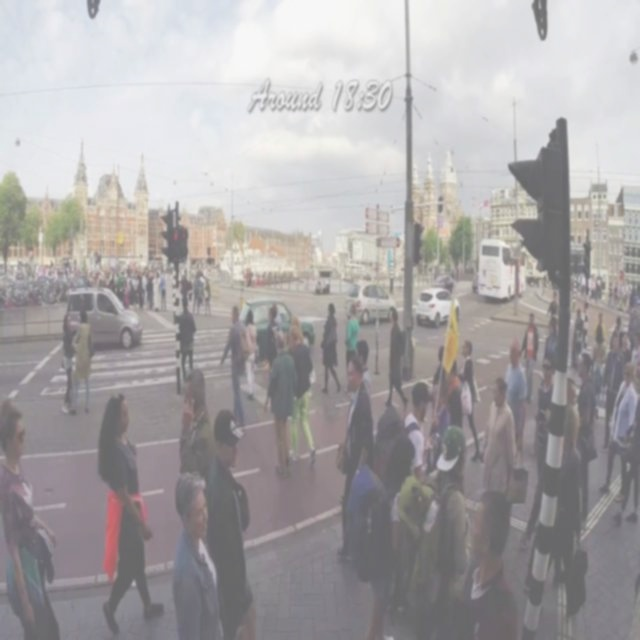pessoa: (94, 386, 168, 640), (0, 393, 65, 640), (527, 396, 587, 625), (408, 423, 472, 637), (204, 407, 254, 639), (451, 484, 523, 640), (29, 246, 174, 316), (170, 468, 227, 639), (335, 356, 375, 562), (568, 262, 640, 372), (517, 353, 556, 551), (371, 381, 434, 498), (337, 338, 372, 504), (598, 361, 638, 503), (262, 326, 298, 482), (478, 376, 516, 516), (570, 350, 600, 524), (178, 366, 218, 492), (286, 323, 316, 468), (220, 304, 247, 432), (599, 330, 625, 453), (70, 301, 96, 417), (456, 338, 480, 463), (503, 334, 528, 452), (384, 306, 409, 414), (59, 310, 80, 420), (318, 301, 342, 395), (241, 306, 261, 402), (519, 310, 539, 406), (177, 294, 197, 388), (178, 264, 212, 316), (344, 300, 360, 396), (265, 304, 281, 378), (570, 306, 586, 376), (590, 324, 608, 374), (546, 289, 560, 339), (286, 314, 306, 348), (592, 311, 608, 344), (443, 258, 463, 284), (543, 318, 555, 358), (313, 277, 332, 298), (240, 266, 256, 289), (359, 268, 376, 282)
